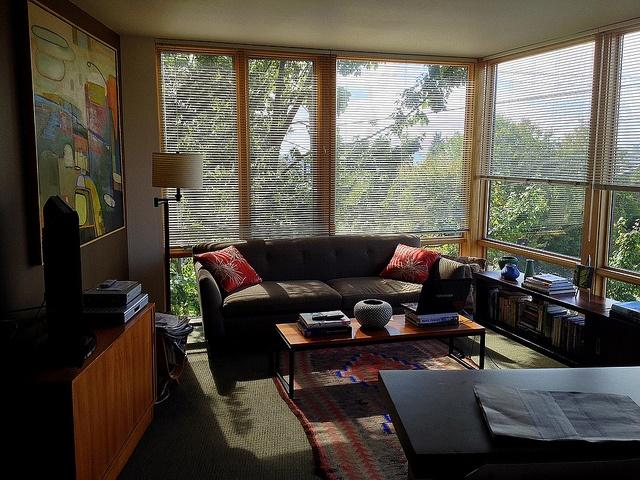Meja: (274, 309, 485, 399)
